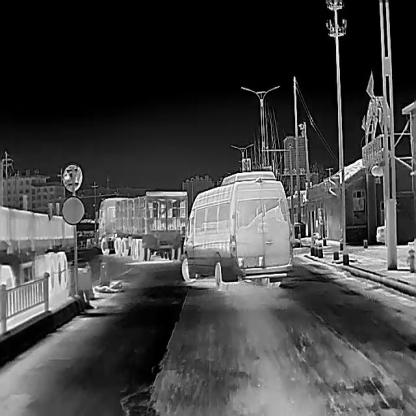car: (181, 170, 289, 288)
truck: (0, 204, 75, 301), (99, 191, 186, 260)
